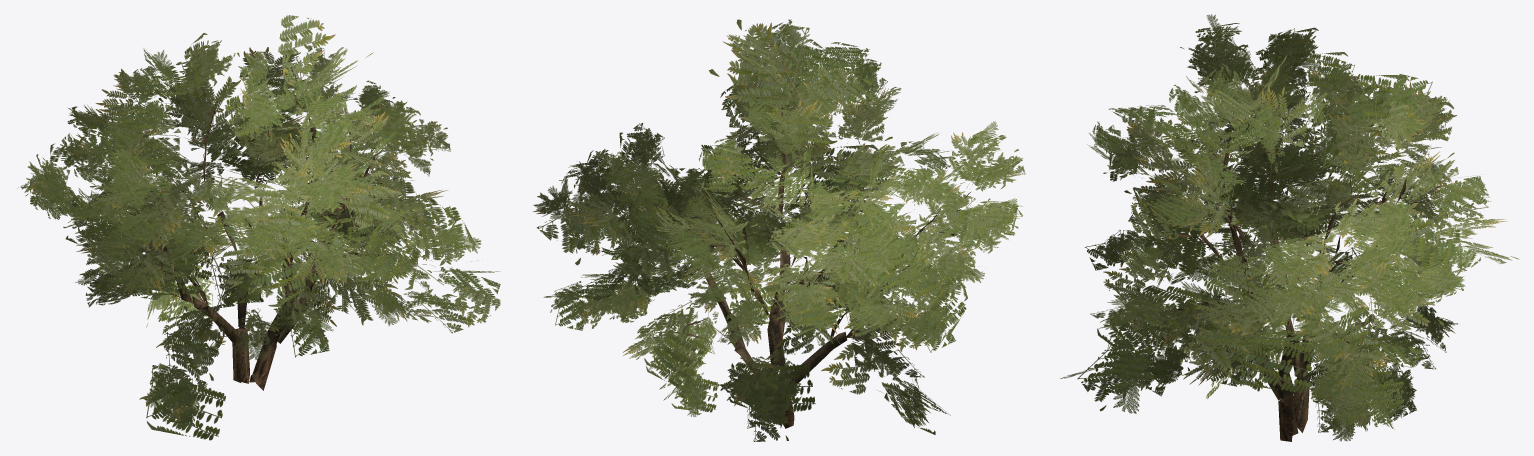
Rendered from jacaranda.glb.
3 renders of one model, left to right at view 1: azimuth 30°, elevation 25°; view 2: azimuth 150°, elevation 25°; view 3: azimuth 270°, elevation 25°, orthographic. The views are drawn at different scales.
Parts seen in each view (by area): view 1: jacaranda_leaves, jacaranda_wood; view 2: jacaranda_leaves, jacaranda_wood; view 3: jacaranda_leaves, jacaranda_wood.
Boxes of the visible parts, <box> form: jacaranda_leaves: <box>17,15,500,440</box>; jacaranda_wood: <box>72,91,477,390</box>; jacaranda_leaves: <box>533,19,1025,441</box>; jacaranda_wood: <box>613,84,981,428</box>; jacaranda_leaves: <box>1060,14,1518,441</box>; jacaranda_wood: <box>1107,99,1442,441</box>.
Bounding box in the file's own units: 11.88 × 9.9 × 10.25.
2 materials, 2 textured.
